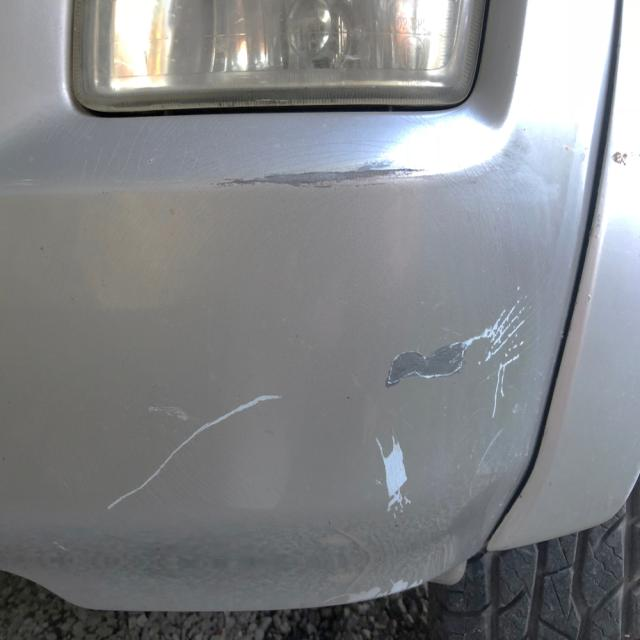scratch: (102, 390, 287, 515), (379, 280, 532, 422), (213, 157, 428, 190)
